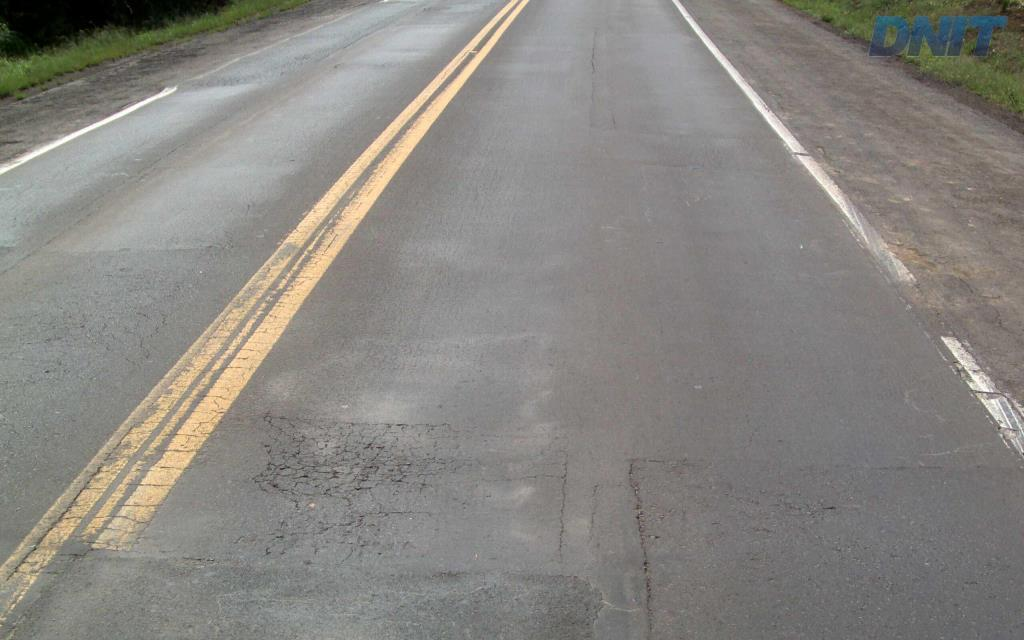crack: (252, 410, 446, 514), (627, 458, 652, 544), (639, 546, 656, 636)
